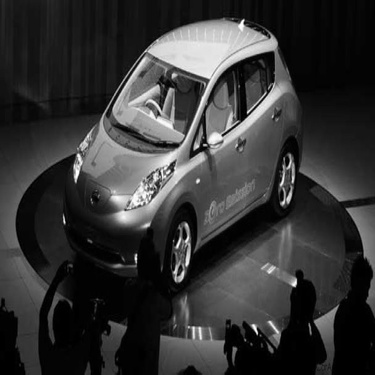car: (56, 6, 304, 297)
